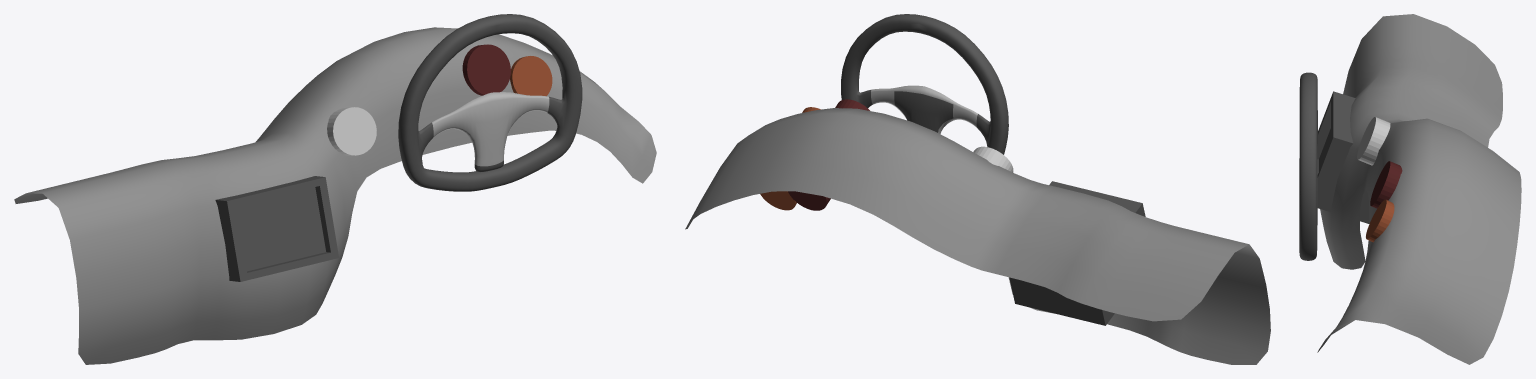
The model's file is dasbor dan setir lowo ireng.fbx.
3 views of the same model, side by side, from view 1: azimuth 30°, elevation 25°; view 2: azimuth 150°, elevation 25°; view 3: azimuth 270°, elevation 25° (orthographic). The views are drawn at different scales.
Visible parts, largest first — view 1: Plane, Cube, Cube.002, Cylinder, Cylinder.002, Cylinder.001; view 2: Plane, Cube, Cube.002, Cylinder, Cylinder.001, Cylinder.002; view 3: Plane, Cube, Cube.002, Cylinder.002, Cylinder, Cylinder.001.
Part boxes in pixels (x1,y1,x2,y2): Plane: (14,27,656,364); Cube: (398,14,582,191); Cube.002: (215,176,338,281); Cylinder: (462,44,510,95); Cylinder.002: (327,107,376,155); Cylinder.001: (510,56,552,96); Plane: (685,108,1270,364); Cube: (841,14,1008,154); Cube.002: (1009,181,1145,325); Cylinder: (788,99,869,210); Cylinder.001: (760,107,820,210); Cylinder.002: (973,146,1013,172); Plane: (1317,14,1521,364); Cube: (1299,72,1317,260); Cube.002: (1317,91,1369,223); Cylinder.002: (1357,117,1390,165); Cylinder: (1370,161,1402,208); Cylinder.001: (1366,199,1394,242).
Size of the model in its own units: 823 by 381 by 291.
